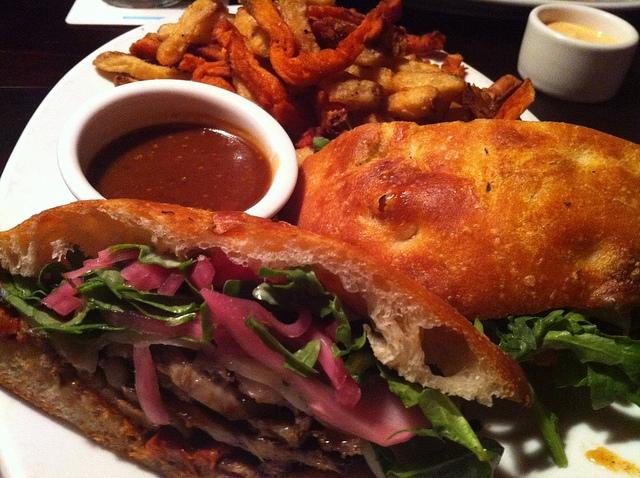lettuce: (476, 310, 640, 410), (258, 264, 349, 327), (244, 316, 319, 374), (6, 294, 95, 326), (78, 266, 159, 301), (108, 244, 198, 270), (124, 299, 196, 327), (120, 292, 204, 314), (36, 262, 70, 294), (23, 322, 99, 334), (312, 136, 330, 154)
